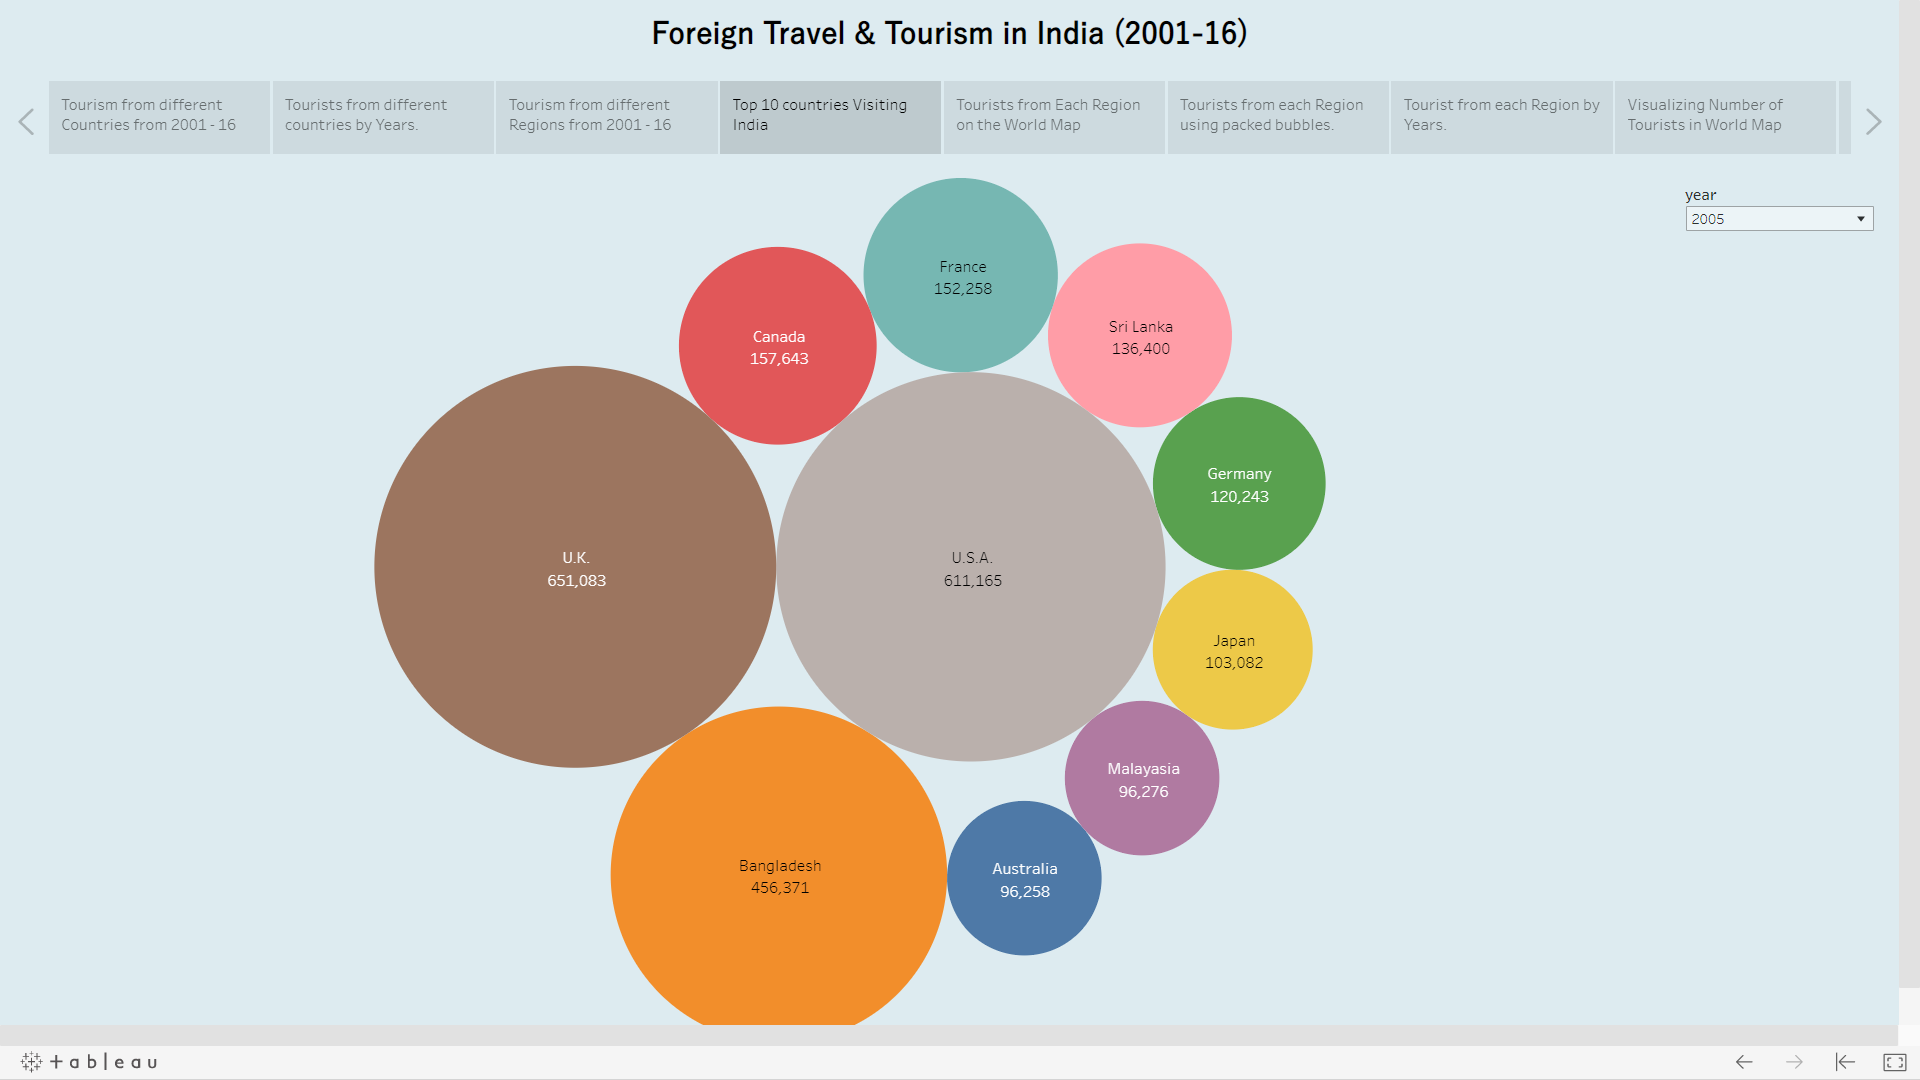

Layout of this report page (visuals, bound fields, positions):
{"tool":"tableau","page":{"name":"By Country","canvas":[1520,700],"ordinal":0},"visuals":[{"type":"worksheet","box":[0,0,1520,700]},{"type":"worksheet","param":"vert","box":[1273.8,7.9,232.6,63]},{"type":"worksheet","param":"[Parameters].[Parameter 1]","box":[1273.8,7.9,232.6,63]},{"type":"worksheet","param":"vert","box":[8,8,1504,684]},{"type":"worksheet","param":"horz","box":[8,8,1504,684]},{"type":"worksheet","box":[8,8,1504,684]},{"type":"worksheet","title":"Top 10 Countries Visiting India","mark":"Circle","box":[8,8,1504,342]},{"type":"worksheet","title":"Visitors on Map by Country","mark":"Automatic","param":"[federated.0m8pxyp08y5cd51do6m1t1b7czdd].[none:F2:nk]","box":[1283.3,64.8,224.7,292.2]},{"type":"worksheet","box":[13.2,67,341.5,161.3]},{"type":"worksheet","title":"Visitors on Map by Country","mark":"Automatic","box":[8,350,1504,342]}]}

Visuals, with their boxes on the page's 1520x700 design canvas (x1, y1, x2, y2). These are canvas units, not pixel positions in the 1920x1080 screenshot, which may show the page scaled, cropped or inside an application window:
worksheet: x1=0, y1=0, x2=1520, y2=700
worksheet: x1=1274, y1=8, x2=1506, y2=71
worksheet: x1=1274, y1=8, x2=1506, y2=71
worksheet: x1=8, y1=8, x2=1512, y2=692
worksheet: x1=8, y1=8, x2=1512, y2=692
worksheet: x1=8, y1=8, x2=1512, y2=692
"Top 10 Countries Visiting India" worksheet (Circle marks): x1=8, y1=8, x2=1512, y2=350
"Visitors on Map by Country" worksheet: x1=1283, y1=65, x2=1508, y2=357
worksheet: x1=13, y1=67, x2=355, y2=228
"Visitors on Map by Country" worksheet: x1=8, y1=350, x2=1512, y2=692
